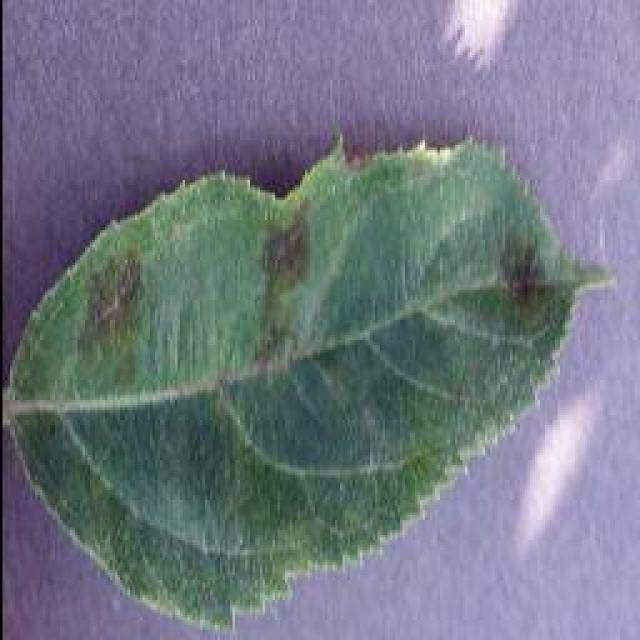apple scab disease: (2, 127, 610, 635)
